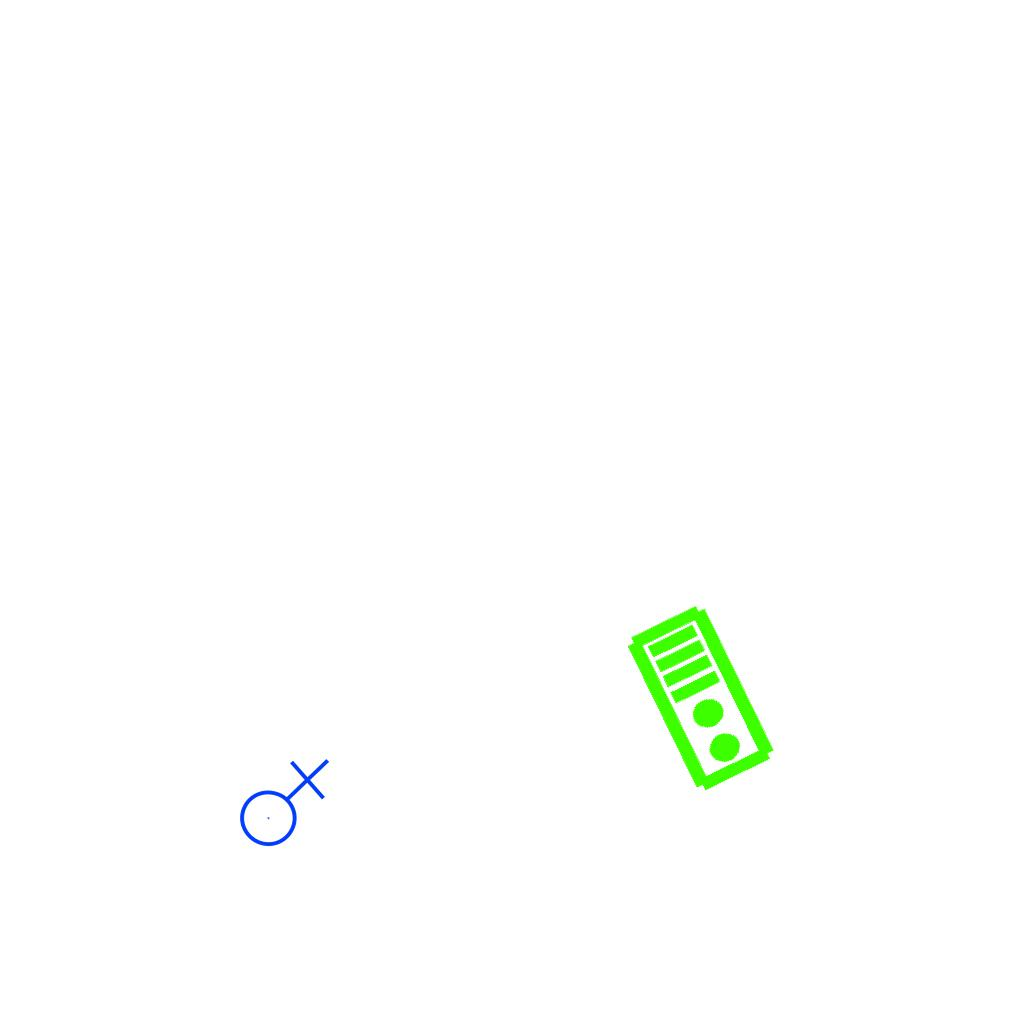Elektroanschluss_allgemein_230V_Geraeteanschlussdose_230V: (231, 754, 330, 848)
Gegensprechanlage_mit_Video: (621, 598, 784, 798)
